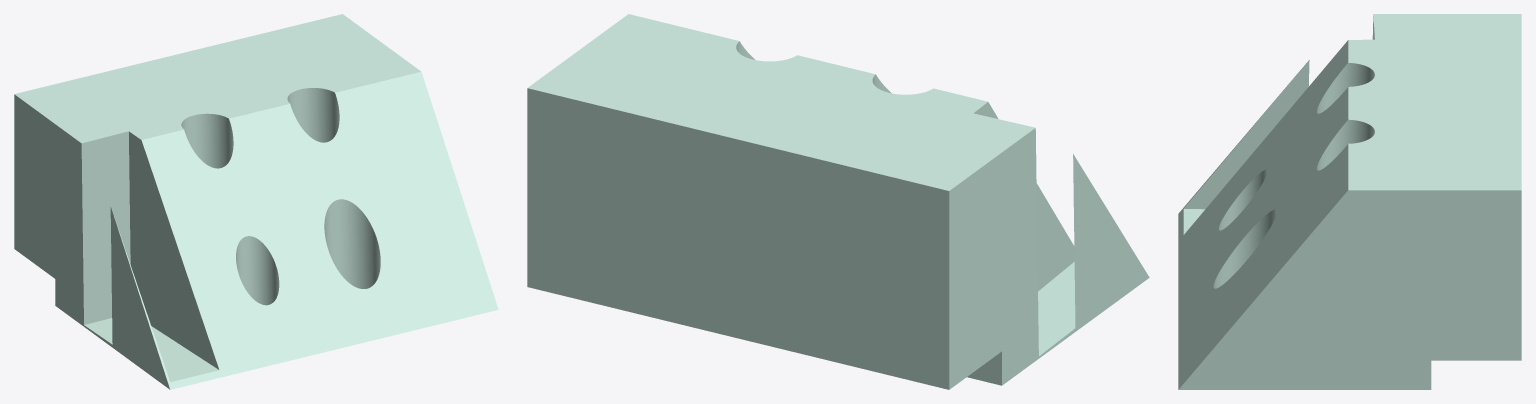
3 views of the same model, side by side, from view 1: azimuth 30°, elevation 25°; view 2: azimuth 150°, elevation 25°; view 3: azimuth 270°, elevation 25° (orthographic). The views are drawn at different scales.
Parts seen in each view (by area): view 1: Renderer Node; view 2: Renderer Node; view 3: Renderer Node.
Part boxes in pixels (left/top/right/bottom): Renderer Node: left=14, top=14, right=498, bottom=389; Renderer Node: left=527, top=14, right=1149, bottom=389; Renderer Node: left=1178, top=14, right=1521, bottom=389.
Bounding box in the file's own units: 0.75 × 0.3963 × 0.6172.
